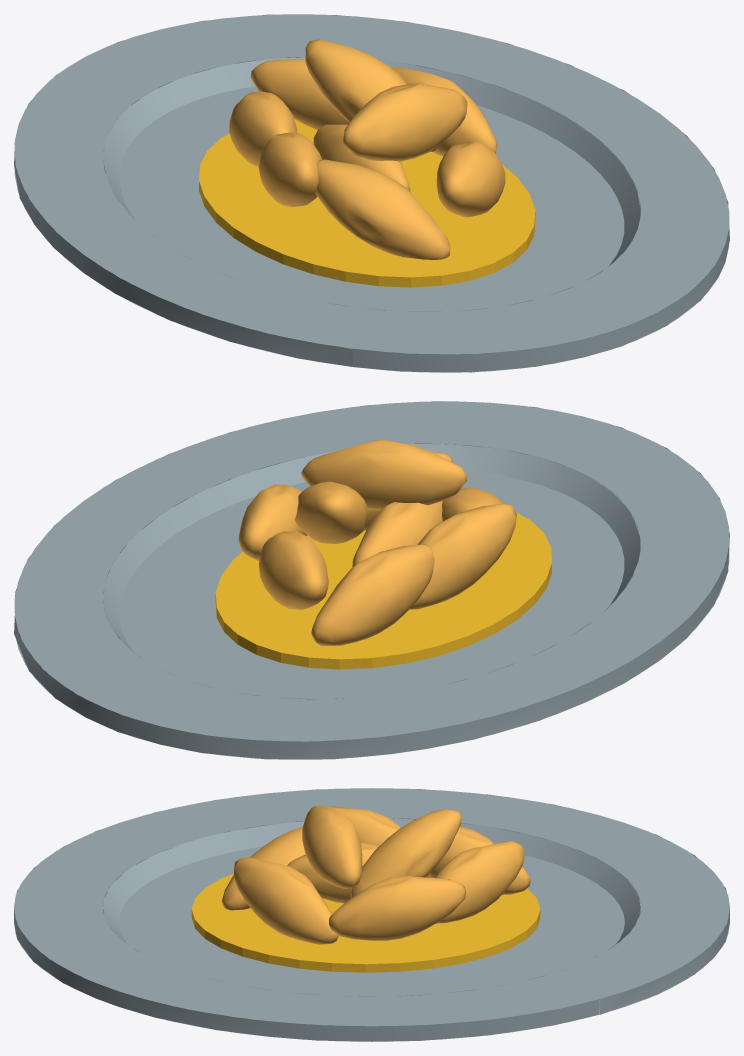
Rendered from kopytka-zlote.gltf.
The picture shows the model from 3 angles, top to bottom: view 1: azimuth 30°, elevation 25°; view 2: azimuth 150°, elevation 25°; view 3: azimuth 270°, elevation 25°; orthographic projection. The views are drawn at different scales.
Parts seen in each view (by area): view 1: talerz3.002, Circle, Sphere.005, Sphere.008, Sphere.007, Sphere.006, Sphere.004, Sphere.002, Sphere.003, Sphere.001, Sphere; view 2: talerz3.002, Circle, Sphere.003, Sphere.008, Sphere.004, Sphere.002, Sphere.007, Sphere, Sphere.001, Sphere.005; view 3: talerz3.002, Circle, Sphere.001, Sphere.006, Sphere.007, Sphere.002, Sphere.008, Sphere.005, Sphere.004, Sphere.003, Sphere.
Boxes of the visible parts, <box> form: talerz3.002: <box>14,14,729,372</box>; Circle: <box>199,119,535,287</box>; Sphere.005: <box>315,159,450,259</box>; Sphere.008: <box>343,83,467,161</box>; Sphere.007: <box>305,39,437,151</box>; Sphere.006: <box>436,140,505,217</box>; Sphere.004: <box>258,132,321,206</box>; Sphere.002: <box>250,59,349,130</box>; Sphere.003: <box>229,91,296,166</box>; Sphere.001: <box>392,67,496,156</box>; Sphere: <box>313,124,410,191</box>; talerz3.002: <box>14,401,729,759</box>; Circle: <box>215,512,551,669</box>; Sphere.003: <box>311,544,434,646</box>; Sphere.008: <box>301,440,467,510</box>; Sphere.004: <box>409,503,516,609</box>; Sphere.002: <box>259,531,328,609</box>; Sphere.007: <box>294,481,367,543</box>; Sphere: <box>352,501,442,566</box>; Sphere.001: <box>238,484,306,560</box>; Sphere.005: <box>442,487,503,521</box>; talerz3.002: <box>14,788,729,1041</box>; Circle: <box>191,873,540,972</box>; Sphere.001: <box>329,876,465,940</box>; Sphere.006: <box>233,857,338,944</box>; Sphere.007: <box>350,809,461,897</box>; Sphere.002: <box>435,841,524,923</box>; Sphere.008: <box>302,805,362,888</box>; Sphere.005: <box>221,826,305,910</box>; Sphere.004: <box>325,806,429,877</box>; Sphere.003: <box>428,826,530,894</box>; Sphere: <box>287,842,428,903</box>.
Size of the model in its own units: 0.6975 by 0.1607 by 0.8863.
Materials: 3 (3 with a texture image).
